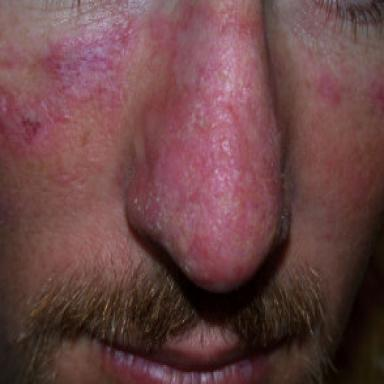Lupus-Erythematosus-Chronicus-Discoides: (127, 3, 281, 291), (0, 18, 139, 145)
